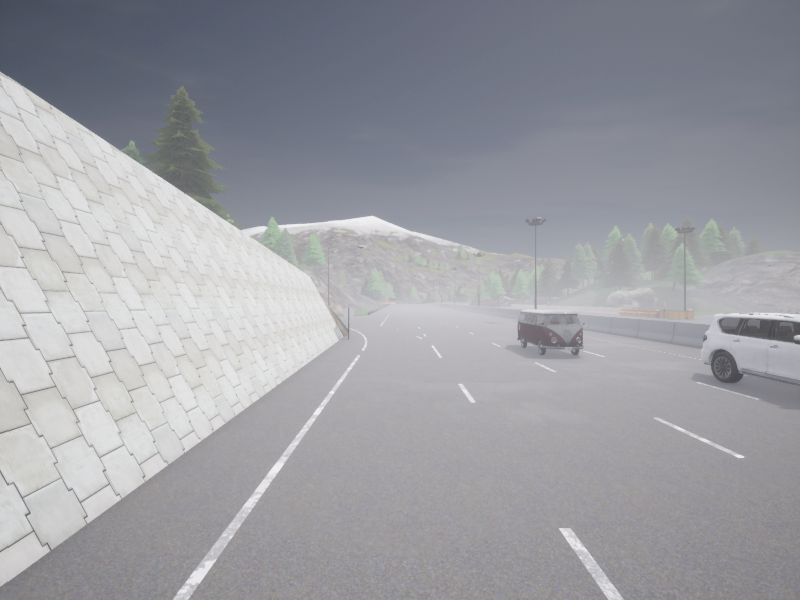vehicle: (701, 313, 799, 386), (517, 309, 584, 354)
